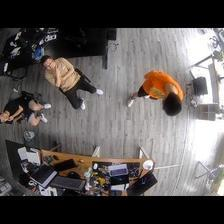normal: (42, 54, 103, 113), (125, 68, 186, 119), (1, 97, 53, 124)
